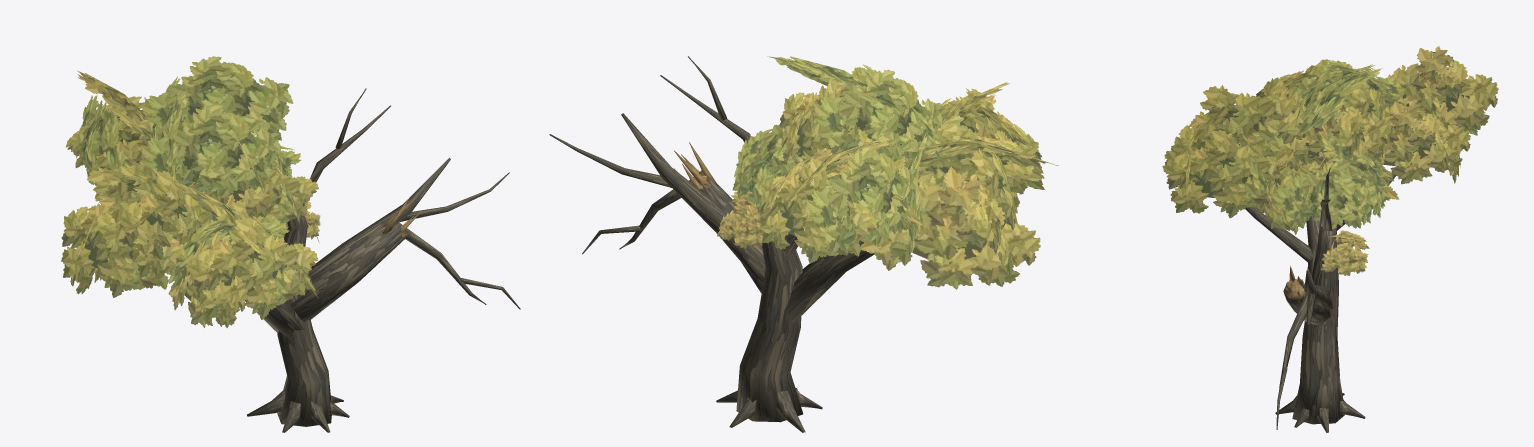
The model's file is nbt_storm.glb.
The picture shows the model from 3 angles, left to right: view 1: azimuth 30°, elevation 25°; view 2: azimuth 150°, elevation 25°; view 3: azimuth 270°, elevation 25°; orthographic projection. The views are drawn at different scales.
Parts seen in each view (by area): view 1: Storm_Damaged_Tree_Foliage, Storm_Damaged_Tree_Wood; view 2: Storm_Damaged_Tree_Foliage, Storm_Damaged_Tree_Wood; view 3: Storm_Damaged_Tree_Foliage, Storm_Damaged_Tree_Wood.
Part boxes in pixels (bbox=[...]): Storm_Damaged_Tree_Foliage: bbox=[61, 56, 320, 328]; Storm_Damaged_Tree_Wood: bbox=[244, 88, 520, 432]; Storm_Damaged_Tree_Foliage: bbox=[717, 56, 1058, 289]; Storm_Damaged_Tree_Wood: bbox=[549, 56, 874, 432]; Storm_Damaged_Tree_Foliage: bbox=[1162, 46, 1498, 275]; Storm_Damaged_Tree_Wood: bbox=[1245, 167, 1396, 432].
Size of the model in its own units: 9.15 by 6.78 by 7.11.
Materials: 2 (2 with a texture image).
